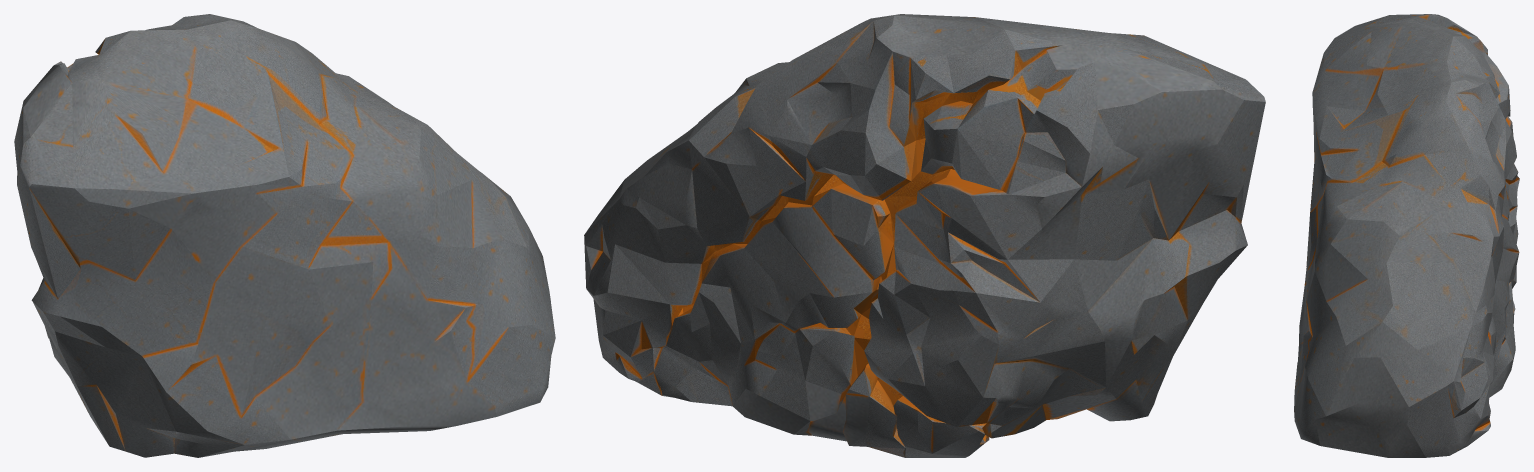
The model's file is gold.glb.
The picture shows the model from 3 angles, left to right: view 1: azimuth 30°, elevation 25°; view 2: azimuth 150°, elevation 25°; view 3: azimuth 270°, elevation 25°; orthographic projection. The views are drawn at different scales.
Size of the model in its own units: 1.9 by 1.24 by 0.8843.
Materials: 1 (1 with a texture image).
